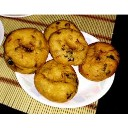vada: (6, 27, 48, 71), (37, 61, 78, 106), (78, 41, 120, 80), (48, 28, 88, 66)
